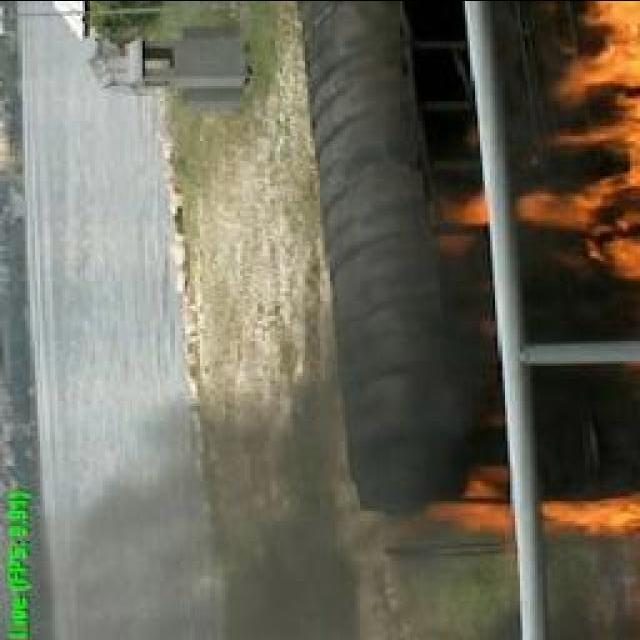Fire: (545, 1, 640, 286), (429, 444, 640, 548), (433, 171, 483, 259)
